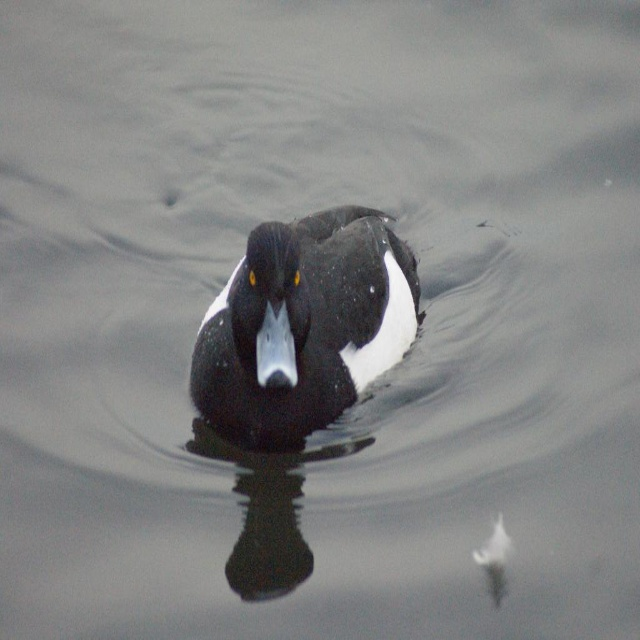Duck: (190, 205, 420, 441)
